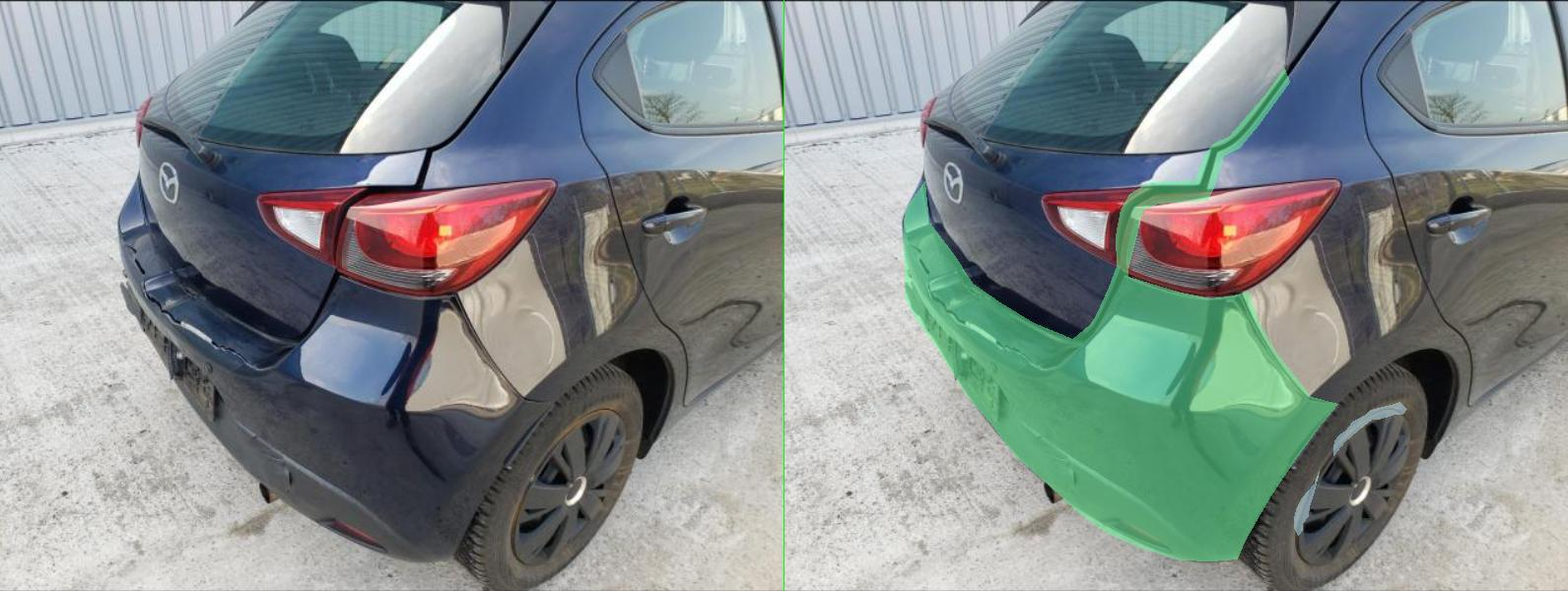Broken part: (239, 181, 1106, 560), (594, 68, 1010, 339)
Corrosion: (1099, 402, 1245, 455), (1020, 471, 1069, 535)
